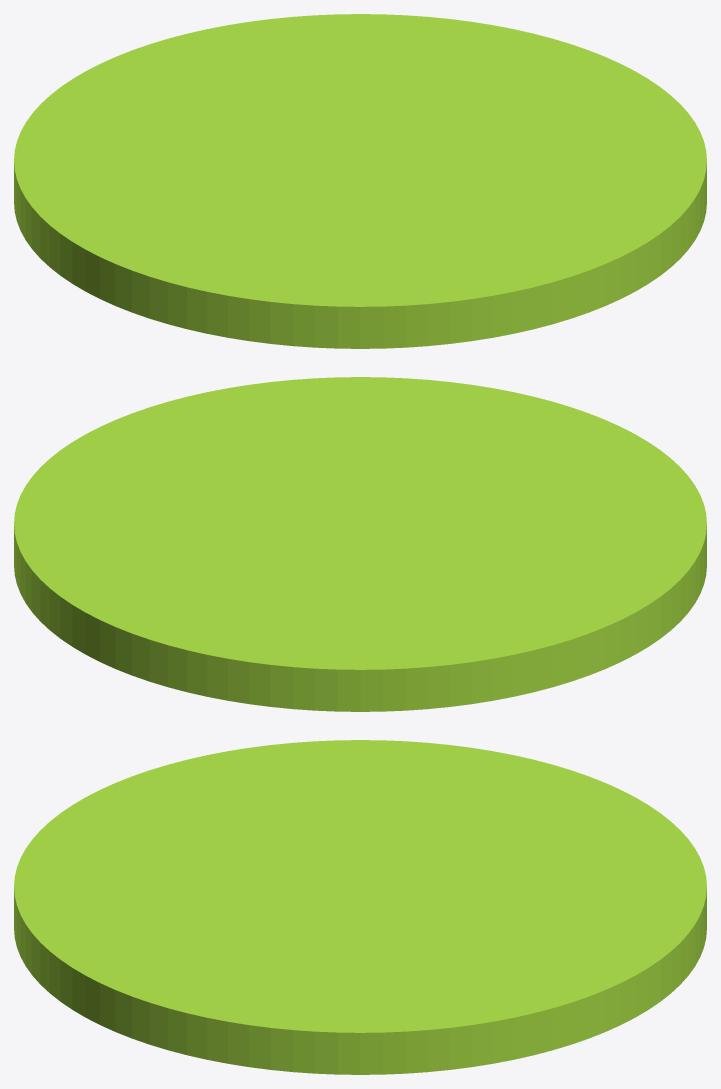
The model's file is si-keilat-1-5-uniryyn-Alusta2-2.fbx.
The picture shows the model from 3 angles, top to bottom: view 1: azimuth 30°, elevation 25°; view 2: azimuth 150°, elevation 25°; view 3: azimuth 270°, elevation 25°; orthographic projection.
Parts seen in each view (by area): view 1: Cylinder.017; view 2: Cylinder.017; view 3: Cylinder.017.
Boxes of the visible parts, x1=… form: Cylinder.017: x1=14, y1=14, x2=706, y2=348; Cylinder.017: x1=14, y1=377, x2=706, y2=711; Cylinder.017: x1=14, y1=740, x2=706, y2=1074.
Bounding box in the file's own units: 358 × 24 × 358.
